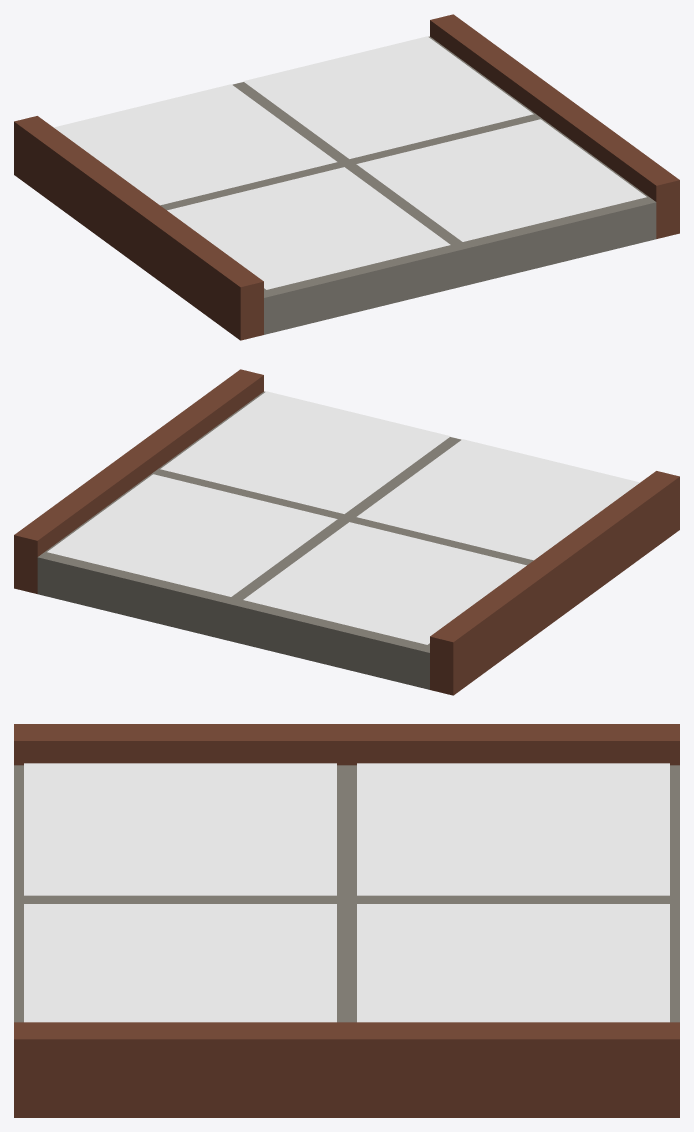
File: path-flags.glb
3 views of the same model, one above another, from view 1: azimuth 30°, elevation 25°; view 2: azimuth 150°, elevation 25°; view 3: azimuth 270°, elevation 25° (orthographic). The views are drawn at different scales.
Parts seen in each view (by area): view 1: path-flags; view 2: path-flags; view 3: path-flags.
Part boxes in pixels (x1=…): path-flags: x1=14, y1=14, x2=679, y2=340; path-flags: x1=14, y1=369, x2=679, y2=695; path-flags: x1=14, y1=724, x2=679, y2=1117.
Size of the model in its own units: 1.12 by 0.13 by 1.
